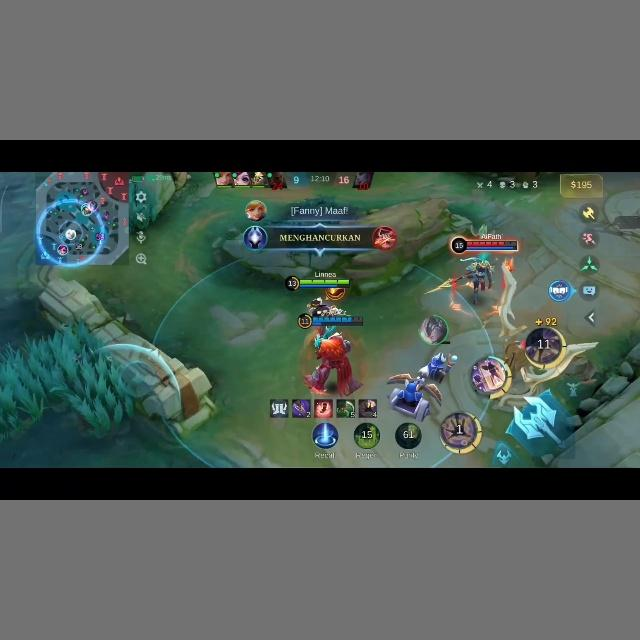hp_enemy: (448, 237, 514, 254)
hp_self: (292, 278, 351, 290), (312, 315, 364, 325)
minion_ally: (402, 373, 442, 400), (422, 351, 454, 382)
